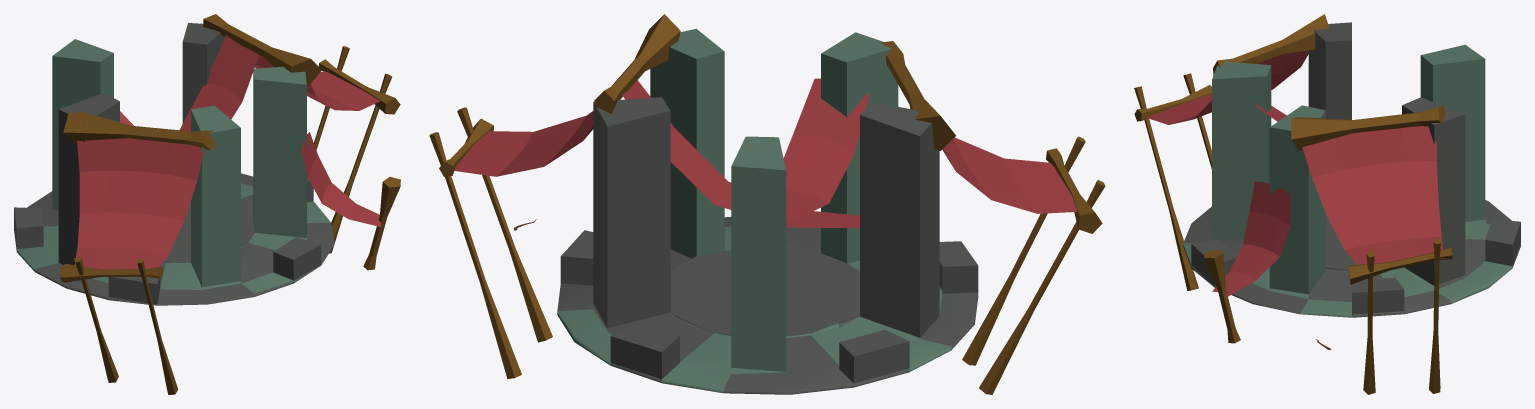
The model's file is Trader-spot.fbx.
3 renders of one model, left to right at view 1: azimuth 30°, elevation 25°; view 2: azimuth 150°, elevation 25°; view 3: azimuth 270°, elevation 25°, orthographic. The views are drawn at different scales.
Parts seen in each view (by area): view 1: pPipe4, pPlane12, pPlane9, pCylinder34, pPlane11, First_Tries3:pCylinder1, pPlane7, pCylinder35, pCylinder37, pCylinder38, pCylinder33, pCylinder39 (+2 smaller); view 2: pPipe4, pPlane10, pPlane12, pPlane7, pPlane9, First_Tries3:pCylinder1, pCylinder32, pCylinder39, pCylinder34, pCylinder33, pCylinder38, pCylinder37 (+1 smaller); view 3: pPipe4, pPlane7, pPlane11, First_Tries3:pCylinder1, pPlane12, pCylinder34, pCylinder38, pCylinder35, pCylinder1, pCylinder32, pCylinder33, pCylinder37 (+1 smaller).
Part boxes in pixels (x1=…): pPipe4: x1=14, y1=23, x2=334, y2=305; pPlane12: x1=74, y1=138, x2=204, y2=276; pPlane9: x1=179, y1=35, x2=259, y2=131; pCylinder34: x1=63, y1=112, x2=215, y2=150; pPlane11: x1=301, y1=132, x2=380, y2=226; First_Tries3:pCylinder1: x1=203, y1=14, x2=321, y2=84; pPlane7: x1=255, y1=55, x2=379, y2=110; pCylinder35: x1=363, y1=176, x2=400, y2=270; pCylinder37: x1=59, y1=264, x2=162, y2=282; pCylinder38: x1=136, y1=258, x2=178, y2=394; pCylinder33: x1=329, y1=73, x2=391, y2=253; pCylinder39: x1=74, y1=256, x2=118, y2=382; pPipe4: x1=557, y1=28, x2=978, y2=394; pPlane10: x1=783, y1=78, x2=869, y2=221; pPlane12: x1=942, y1=137, x2=1077, y2=213; pPlane7: x1=454, y1=111, x2=593, y2=176; pPlane9: x1=622, y1=80, x2=859, y2=228; First_Tries3:pCylinder1: x1=594, y1=14, x2=680, y2=113; pCylinder32: x1=429, y1=132, x2=521, y2=378; pCylinder39: x1=979, y1=180, x2=1105, y2=394; pCylinder34: x1=880, y1=41, x2=955, y2=150; pCylinder33: x1=457, y1=107, x2=552, y2=342; pCylinder38: x1=962, y1=136, x2=1085, y2=365; pCylinder37: x1=1046, y1=148, x2=1102, y2=233; pPipe4: x1=1183, y1=22, x2=1520, y2=317; pPlane7: x1=1302, y1=126, x2=1444, y2=264; pPlane11: x1=1212, y1=181, x2=1290, y2=296; First_Tries3:pCylinder1: x1=1291, y1=106, x2=1445, y2=150; pPlane12: x1=1147, y1=50, x2=1308, y2=124; pCylinder34: x1=1213, y1=14, x2=1329, y2=75; pCylinder38: x1=1134, y1=86, x2=1198, y2=290; pCylinder35: x1=1204, y1=249, x2=1240, y2=343; pCylinder1: x1=1348, y1=246, x2=1452, y2=284; pCylinder32: x1=1429, y1=238, x2=1440, y2=393; pCylinder33: x1=1363, y1=251, x2=1375, y2=394; pCylinder37: x1=1134, y1=85, x2=1211, y2=121.
Size of the model in its own units: 0.2952 by 0.1752 by 0.2291.
